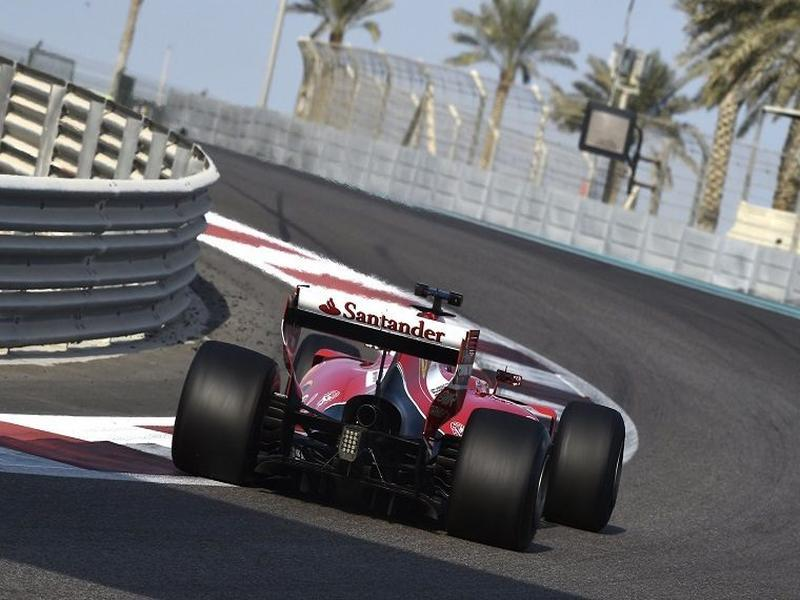racecar: (162, 260, 638, 554)
